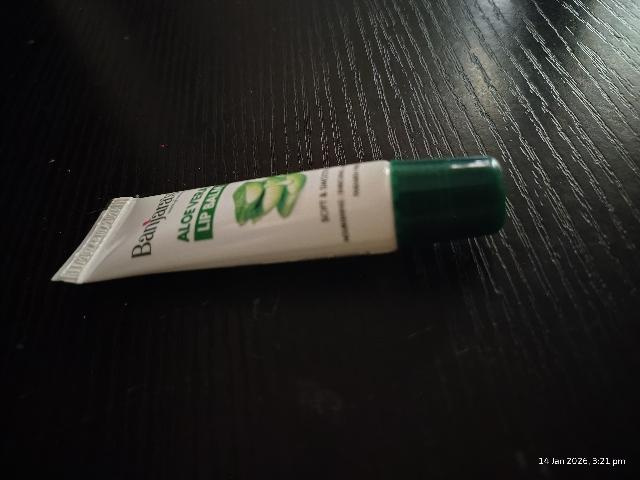banjaras lipbam: (54, 152, 508, 291)
